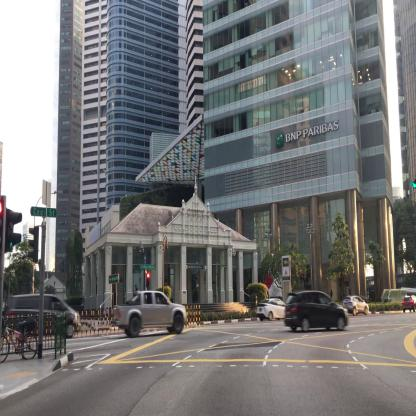red_traffic_light: (147, 272, 149, 287)
